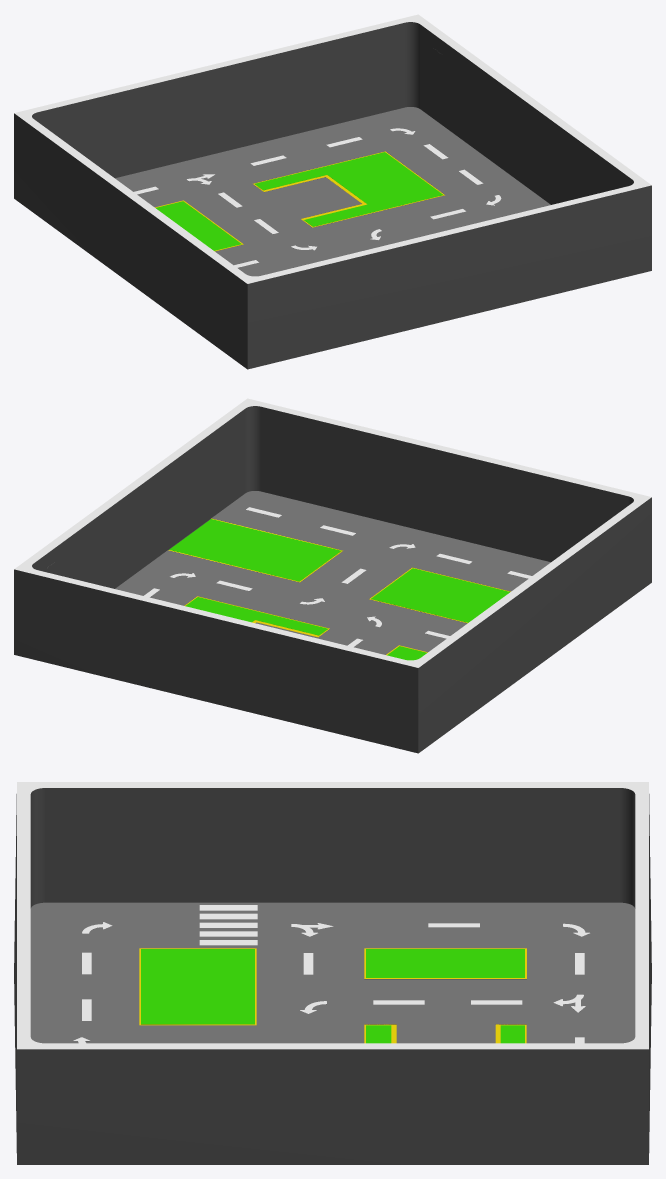
The picture shows the model from 3 angles, top to bottom: view 1: azimuth 30°, elevation 25°; view 2: azimuth 150°, elevation 25°; view 3: azimuth 270°, elevation 25°; orthographic projection. The views are drawn at different scales.
Visible parts, largest first — view 1: Body1; view 2: Body1; view 3: Body1.
Part boxes in pixels (bbox=[...]): Body1: bbox=[14, 14, 651, 369]; Body1: bbox=[14, 398, 651, 753]; Body1: bbox=[14, 782, 651, 1164].
Size of the model in its own units: 1.26 by 1.26 by 0.252.
